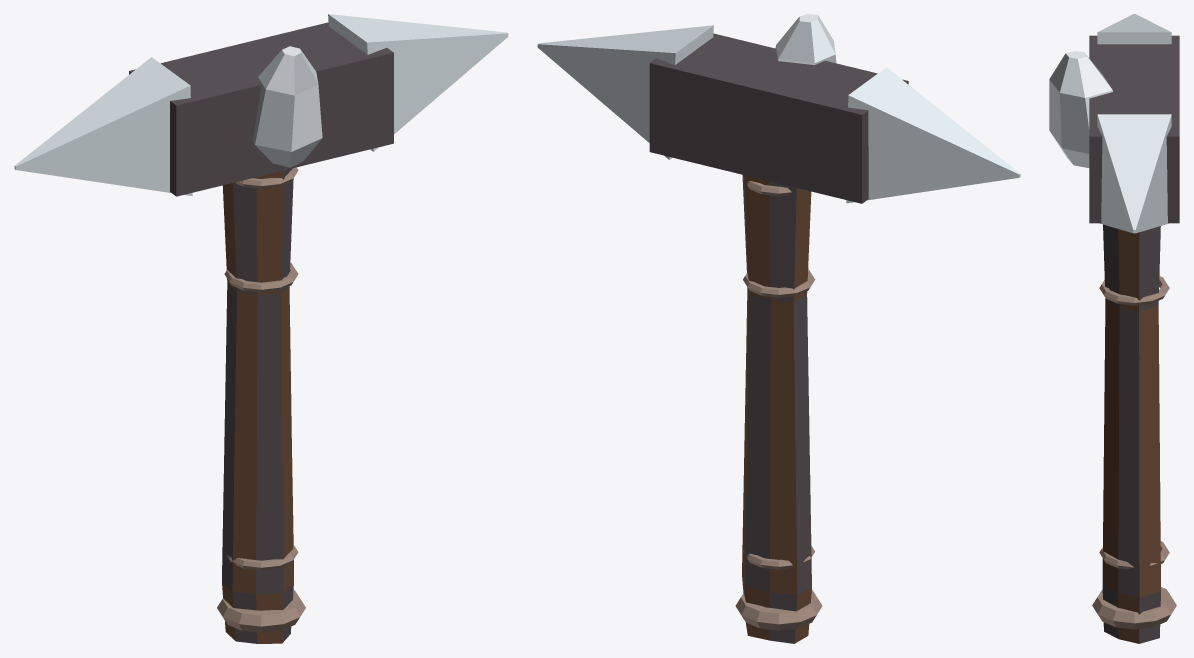
Rendered from BH_PICK_P25_Picareta_Natal_Sombrio_V01.glb.
The picture shows the model from 3 angles, left to right: view 1: azimuth 30°, elevation 25°; view 2: azimuth 150°, elevation 25°; view 3: azimuth 270°, elevation 25°; orthographic projection. The views are drawn at different scales.
Visible parts, largest first — view 1: Handle | shaped shaft.001, Head | main crossbar.001, Head | mining tooth L.001, Head | mining tooth R.001, Head | inset mineral.001, Handle | pommel.001, Handle | binding 3.001, Handle | binding 1.001; view 2: Handle | shaped shaft.001, Head | main crossbar.001, Head | mining tooth L.001, Head | mining tooth R.001, Head | inset mineral.001, Handle | pommel.001, Handle | binding 3.001; view 3: Handle | shaped shaft.001, Head | main crossbar.001, Head | mining tooth R.001, Head | inset mineral.001, Handle | pommel.001, Head | mining tooth L.001, Handle | binding 3.001, Handle | binding 1.001.
Boxes of the visible parts, box(x1,y1,x2,y2) form: Handle | shaped shaft.001: box(222, 168, 293, 643); Head | main crossbar.001: box(129, 22, 393, 196); Head | mining tooth L.001: box(14, 57, 192, 196); Head | mining tooth R.001: box(328, 14, 508, 151); Head | inset mineral.001: box(252, 46, 322, 167); Handle | pommel.001: box(217, 590, 305, 632); Handle | binding 3.001: box(224, 262, 298, 292); Handle | binding 1.001: box(226, 544, 298, 570); Handle | shaped shaft.001: box(742, 174, 811, 643); Head | main crossbar.001: box(649, 33, 908, 203); Head | mining tooth L.001: box(846, 67, 1020, 203); Head | mining tooth R.001: box(537, 25, 713, 159); Head | inset mineral.001: box(775, 14, 836, 64); Handle | pommel.001: box(735, 589, 822, 630); Handle | binding 3.001: box(743, 269, 815, 297); Handle | shaped shaft.001: box(1102, 224, 1160, 643); Head | main crossbar.001: box(1089, 35, 1179, 223); Head | mining tooth R.001: box(1097, 114, 1171, 233); Head | inset mineral.001: box(1049, 51, 1112, 167); Handle | pommel.001: box(1092, 587, 1176, 629); Head | mining tooth L.001: box(1097, 14, 1171, 44); Handle | binding 3.001: box(1099, 276, 1169, 305); Handle | binding 1.001: box(1099, 541, 1169, 569).
Size of the model in its own units: 2.04 by 2.39 by 0.4913.
